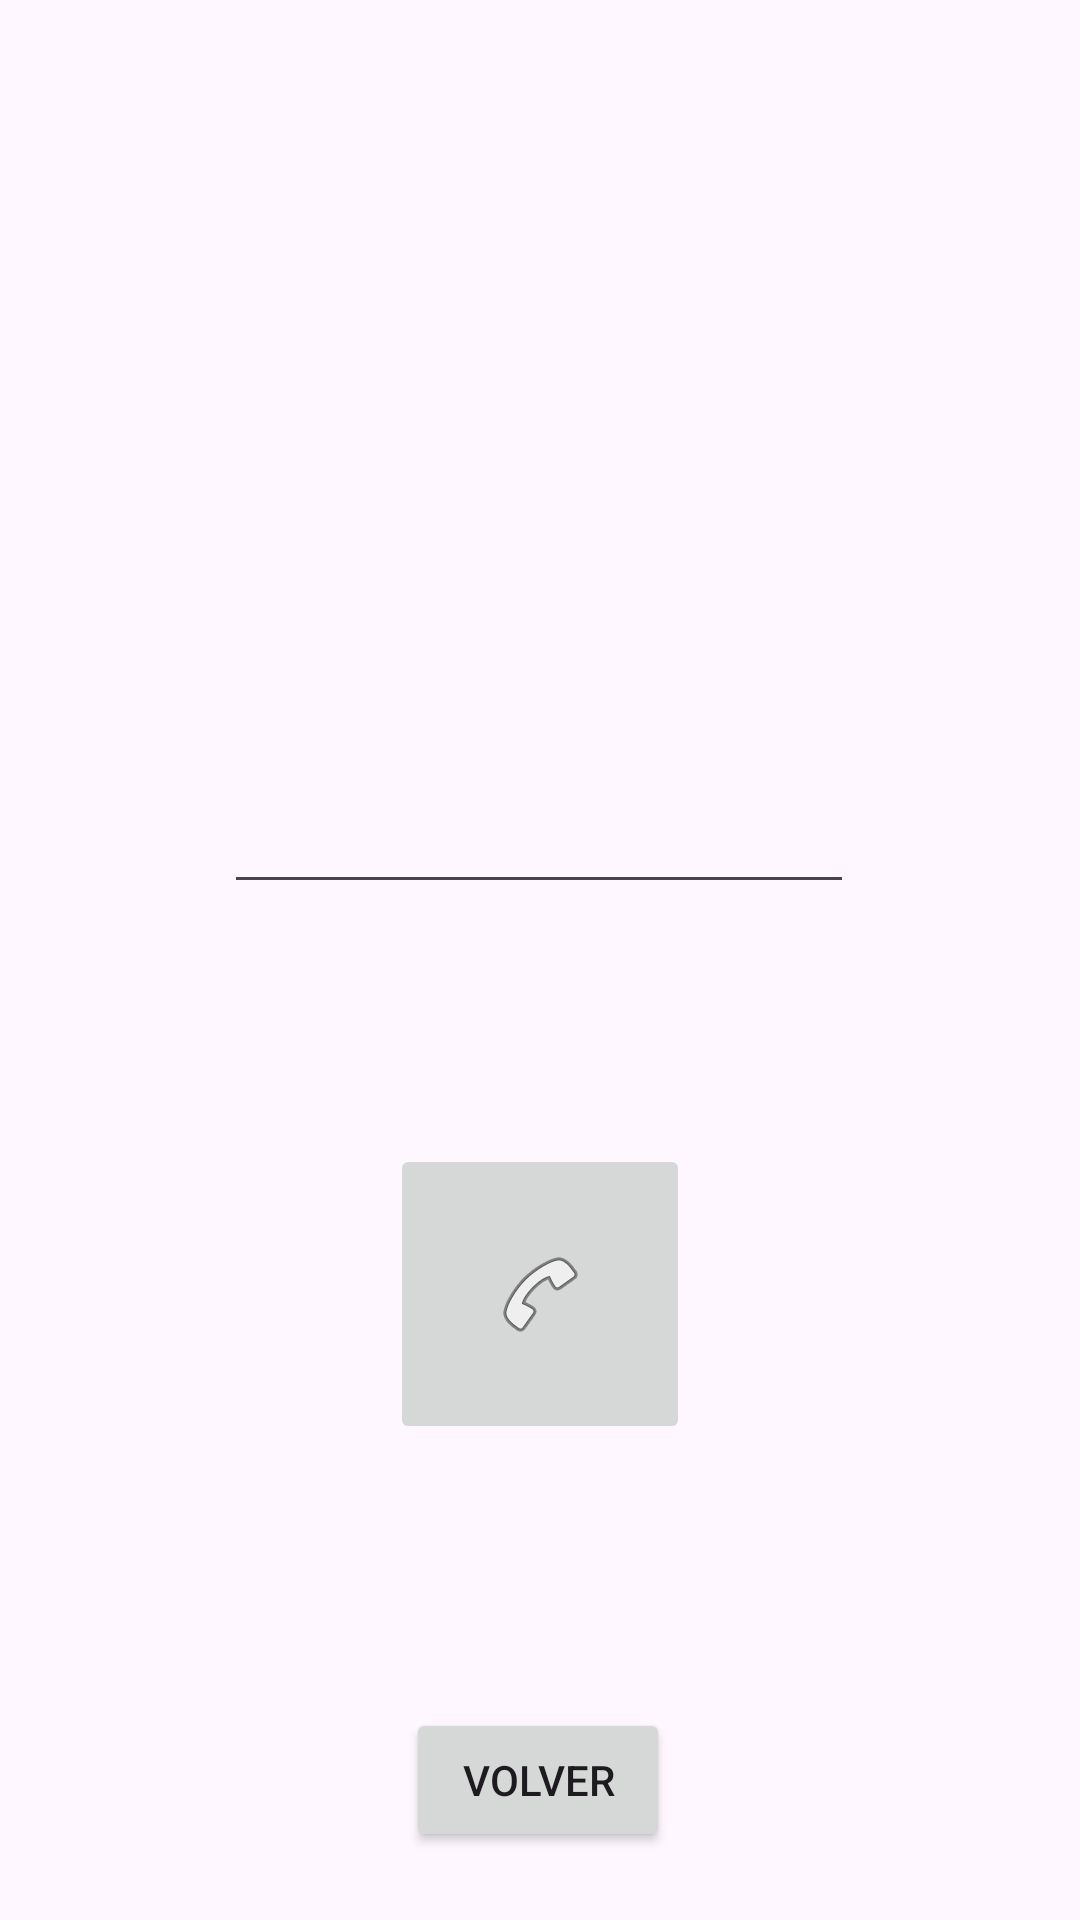

Where icons sit on this 1080 x 1920 app screen, as (x1, y1, x2, y2):
call: (402, 1162, 678, 1426)
